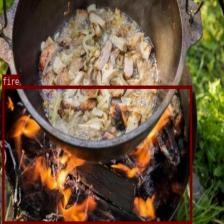fire: (2, 85, 192, 224)
